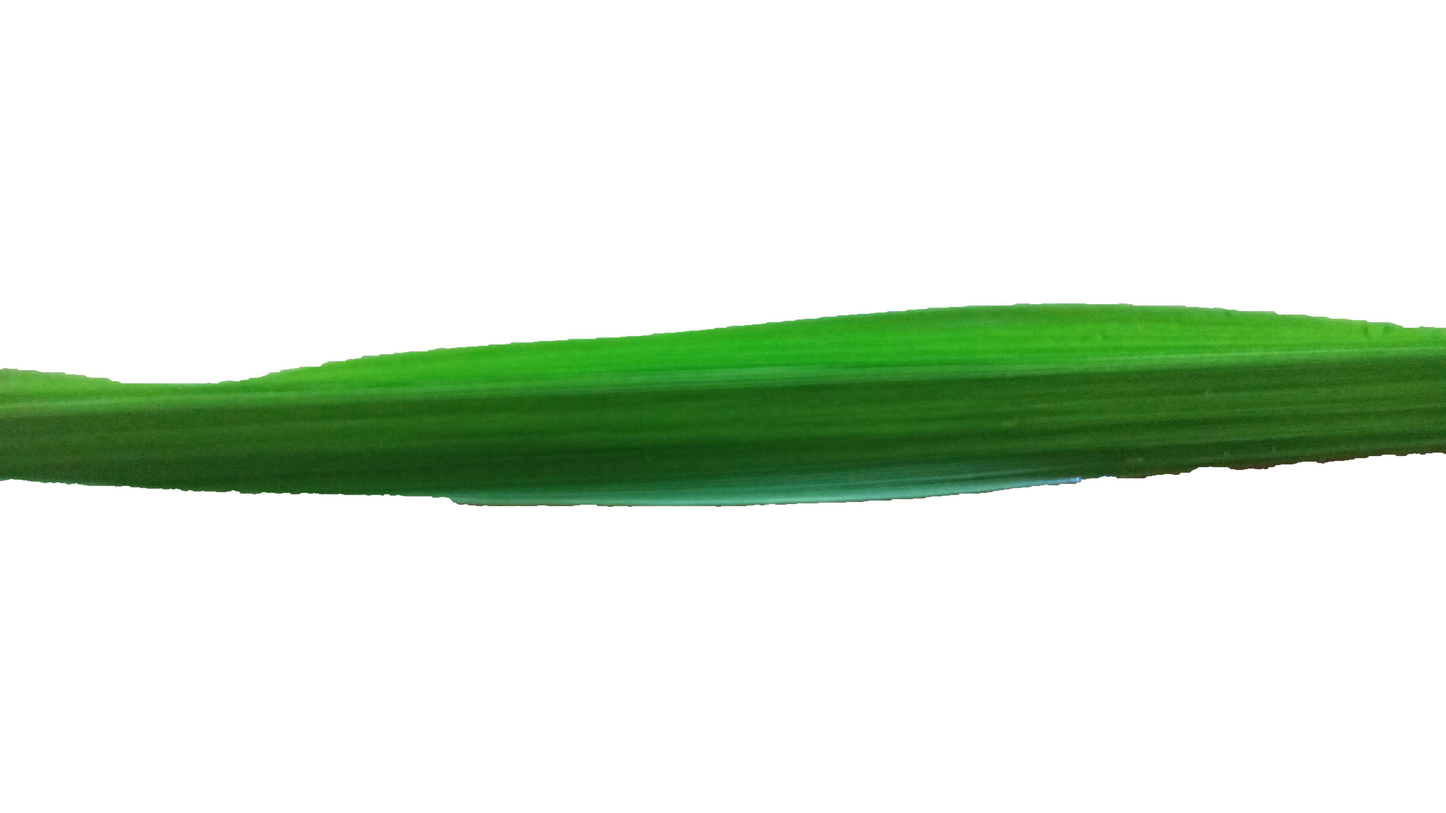Healthy: (0, 304, 1446, 509)
